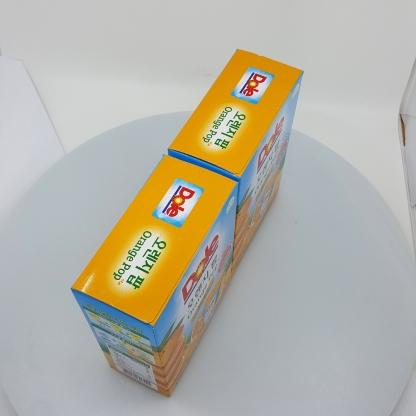--------496ML: (70, 154, 239, 397), (167, 48, 304, 280)
